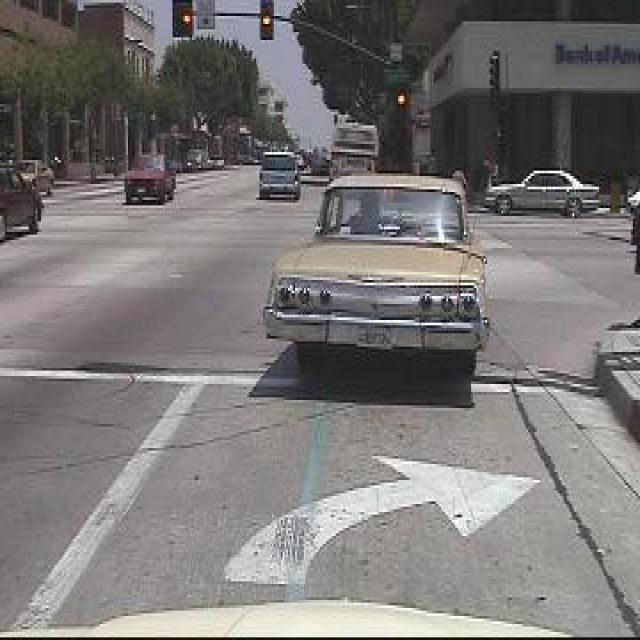car_back: (264, 166, 487, 387), (252, 142, 306, 206)
car_front: (121, 151, 175, 216)
